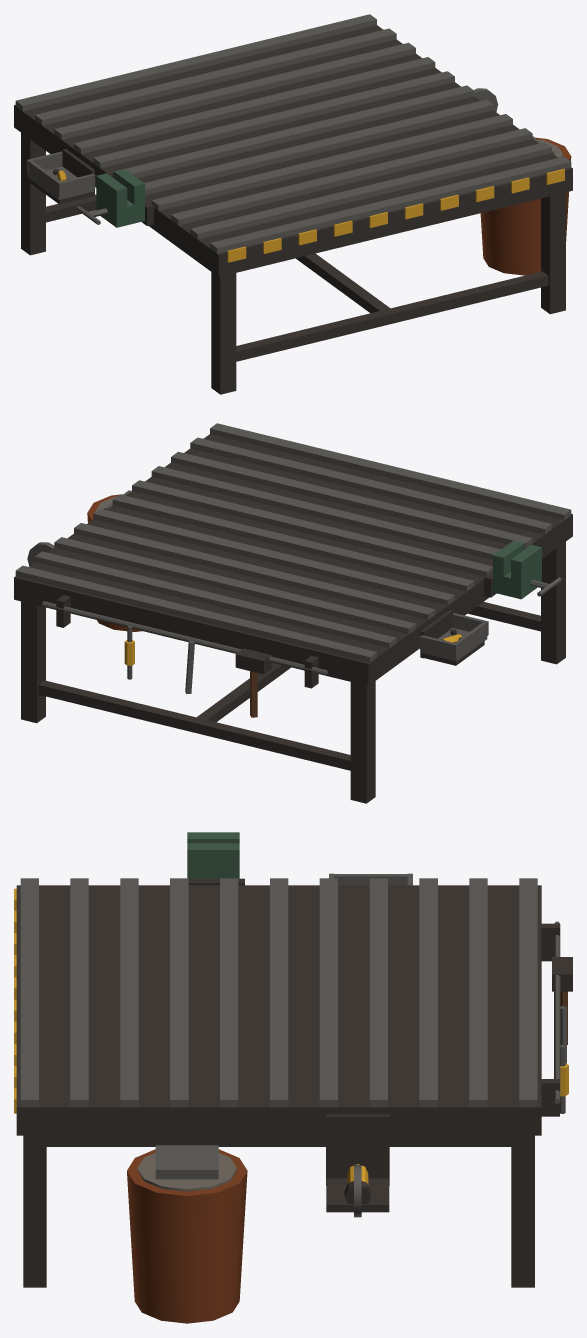
Rendered from dismantle_bench.glb.
3 views of the same model, one above another, from view 1: azimuth 30°, elevation 25°; view 2: azimuth 150°, elevation 25°; view 3: azimuth 270°, elevation 25° (orthographic). The views are drawn at different scales.
Visible parts, largest first — view 1: dismantle_bench; view 2: dismantle_bench; view 3: dismantle_bench.
Part boxes in pixels (x1,y1,x2,y2): dismantle_bench: (14, 14, 572, 394); dismantle_bench: (14, 423, 572, 803); dismantle_bench: (14, 832, 572, 1323).
Size of the model in its own units: 2.64 by 0.9 by 2.13.
